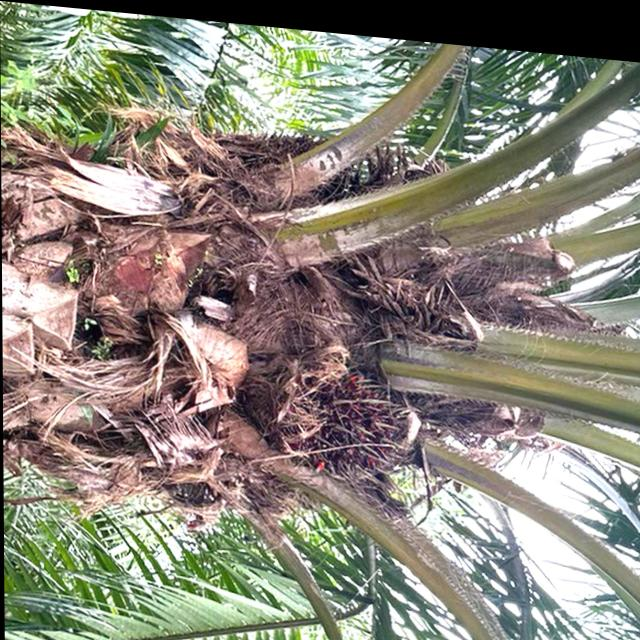ripe: (300, 343, 414, 494)
